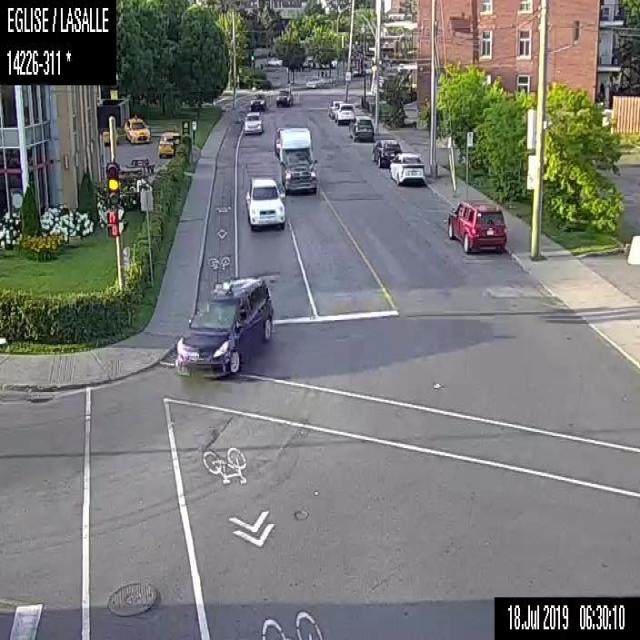vehicle: (172, 268, 274, 380), (446, 199, 508, 253), (276, 124, 318, 195), (244, 173, 285, 231), (388, 150, 426, 187), (370, 137, 402, 168), (123, 113, 150, 143), (347, 114, 373, 142), (158, 127, 179, 158), (335, 101, 357, 125), (242, 111, 262, 133), (249, 91, 270, 111), (275, 88, 293, 106), (327, 98, 341, 118), (305, 74, 322, 88)
